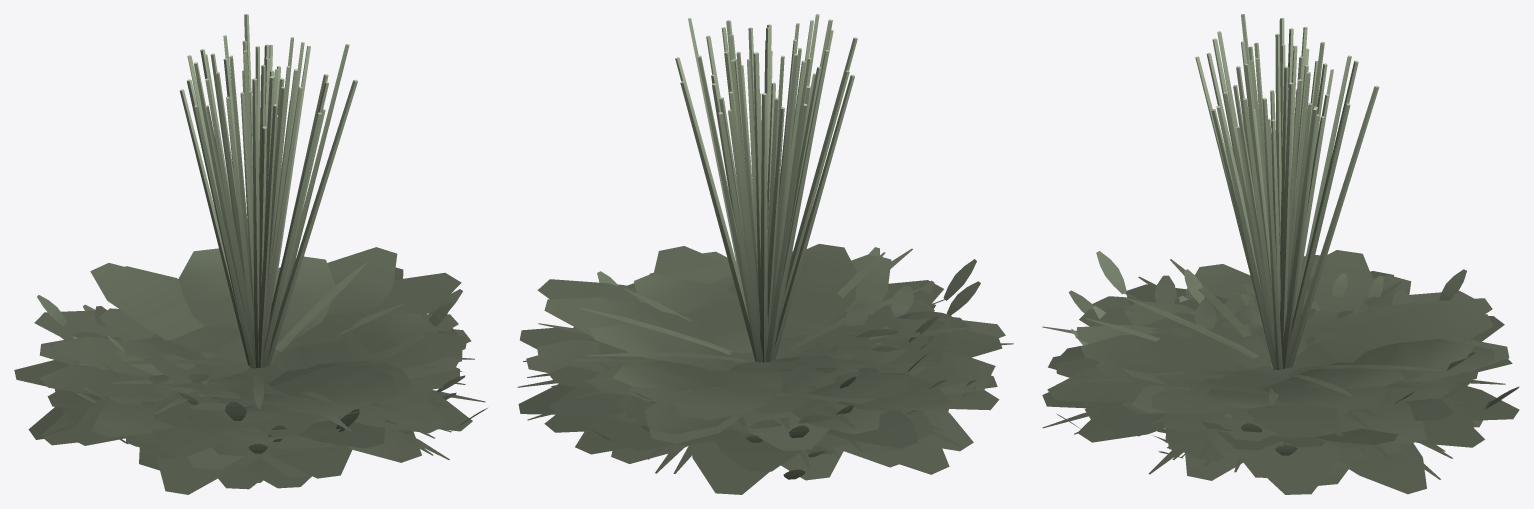
The model's file is herb_rosette.glb.
3 renders of one model, left to right at view 1: azimuth 30°, elevation 25°; view 2: azimuth 150°, elevation 25°; view 3: azimuth 270°, elevation 25°, orthographic. The views are drawn at different scales.
Parts seen in each view (by area): view 1: v2_foliage, v5_foliage, v1_foliage, v6_foliage, v0_foliage, v3_foliage, v4_foliage, v8_foliage, v9_foliage, v7_foliage; view 2: v2_foliage, v5_foliage, v0_foliage, v1_foliage, v6_foliage, v8_foliage, v3_foliage, v4_foliage, v7_foliage, v9_foliage; view 3: v2_foliage, v5_foliage, v0_foliage, v6_foliage, v1_foliage, v3_foliage, v7_foliage, v8_foliage, v9_foliage, v4_foliage.
Boxes of the visible parts, left/top/right/bottom form: v2_foliage: left=28, top=37, right=446, bottom=457; v5_foliage: left=34, top=49, right=472, bottom=469; v1_foliage: left=40, top=35, right=459, bottom=494; v6_foliage: left=93, top=53, right=462, bottom=477; v0_foliage: left=14, top=54, right=457, bottom=489; v3_foliage: left=37, top=44, right=456, bottom=453; v4_foliage: left=73, top=44, right=487, bottom=449; v8_foliage: left=49, top=69, right=474, bottom=485; v9_foliage: left=42, top=40, right=485, bottom=453; v7_foliage: left=71, top=14, right=462, bottom=459; v2_foliage: left=544, top=23, right=1002, bottom=494; v5_foliage: left=549, top=20, right=1005, bottom=451; v0_foliage: left=518, top=14, right=949, bottom=471; v1_foliage: left=526, top=24, right=997, bottom=480; v6_foliage: left=537, top=40, right=967, bottom=420; v8_foliage: left=517, top=27, right=982, bottom=428; v3_foliage: left=583, top=19, right=980, bottom=479; v4_foliage: left=597, top=18, right=976, bottom=457; v7_foliage: left=527, top=34, right=942, bottom=469; v9_foliage: left=538, top=27, right=1013, bottom=473; v2_foliage: left=1047, top=41, right=1512, bottom=494; v5_foliage: left=1042, top=27, right=1509, bottom=480; v0_foliage: left=1056, top=38, right=1519, bottom=494; v6_foliage: left=1074, top=28, right=1493, bottom=454; v1_foliage: left=1048, top=41, right=1482, bottom=485; v3_foliage: left=1068, top=31, right=1519, bottom=458; v7_foliage: left=1042, top=60, right=1505, bottom=479; v8_foliage: left=1042, top=14, right=1478, bottom=473; v9_foliage: left=1106, top=34, right=1468, bottom=474; v4_foliage: left=1056, top=18, right=1383, bottom=455.
Size of the model in its own units: 1.2 by 1 by 1.2.
